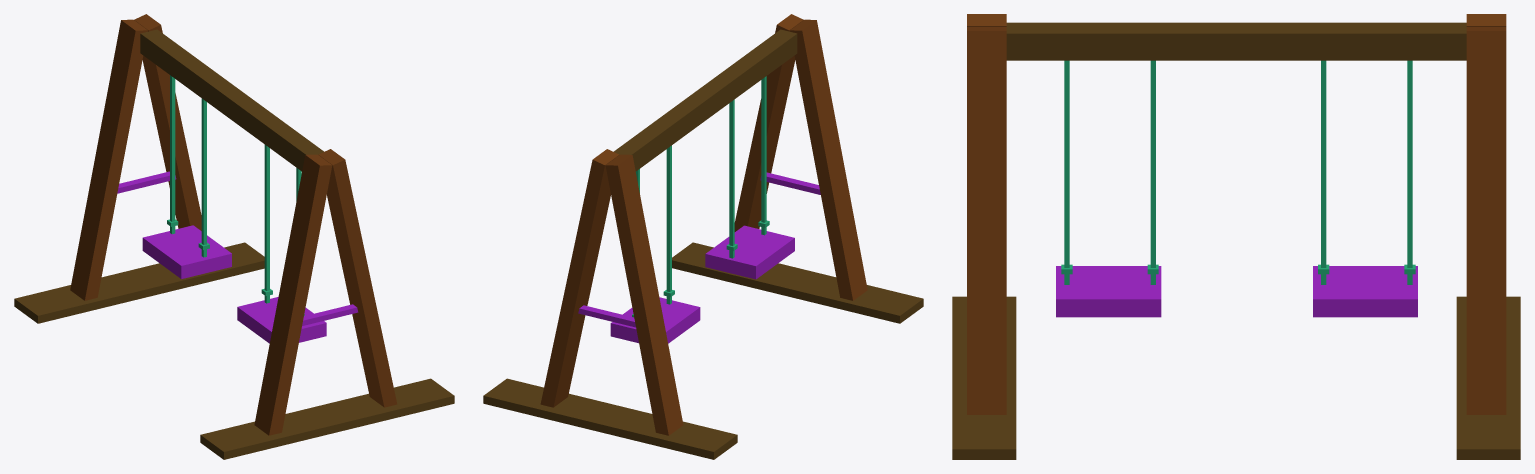
Rendered from Seasaw.fbx.
The picture shows the model from 3 angles, left to right: view 1: azimuth 30°, elevation 25°; view 2: azimuth 150°, elevation 25°; view 3: azimuth 270°, elevation 25°; orthographic projection. The views are drawn at different scales.
Visible parts, largest first — view 1: Seesaw; view 2: Seesaw; view 3: Seesaw.
Part boxes in pixels (left/top/right/bottom): Seesaw: left=14, top=14, right=454, bottom=459; Seesaw: left=483, top=14, right=923, bottom=459; Seesaw: left=952, top=14, right=1520, bottom=459.
Size of the model in its own units: 6.82 by 7.52 by 10.74.
